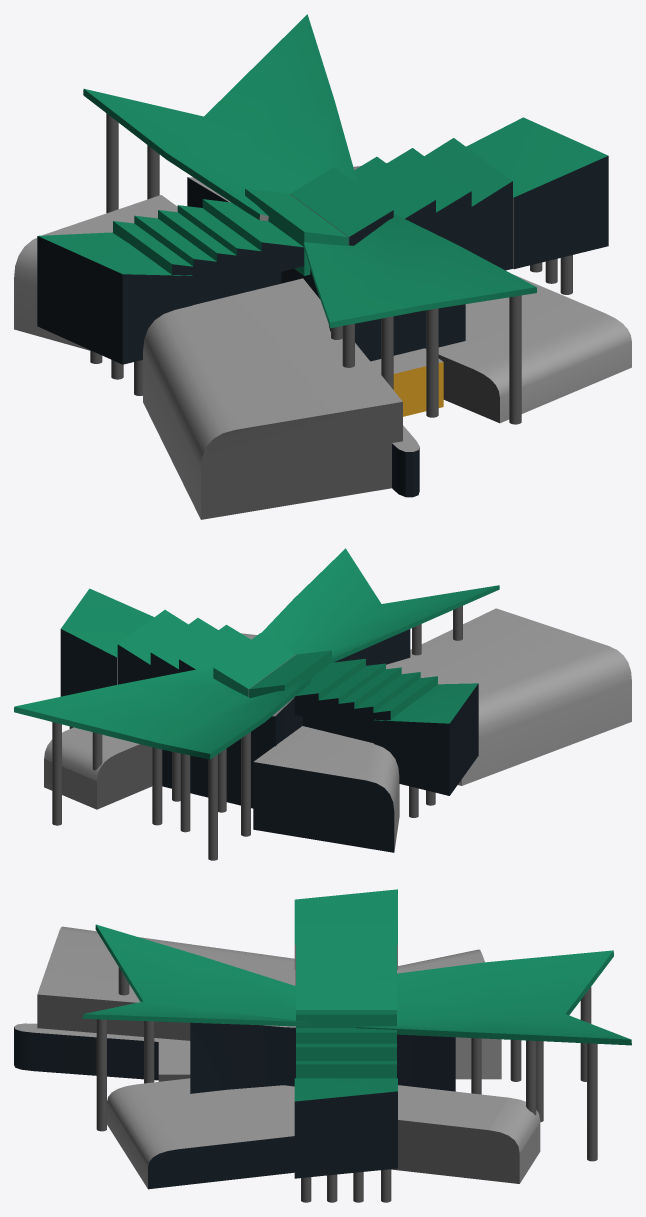
Rendered from Sportcentrum.fbx.
3 views of the same model, one above another, from view 1: azimuth 30°, elevation 25°; view 2: azimuth 150°, elevation 25°; view 3: azimuth 270°, elevation 25° (orthographic). The views are drawn at different scales.
Parts seen in each view (by area): view 1: Box007; view 2: Box007; view 3: Box007.
Part boxes in pixels (x1,y1,x2,y2): Box007: [14, 14, 631, 519]; Box007: [14, 548, 631, 860]; Box007: [14, 889, 631, 1202].
Size of the model in its own units: 198 by 54.37 by 229.
